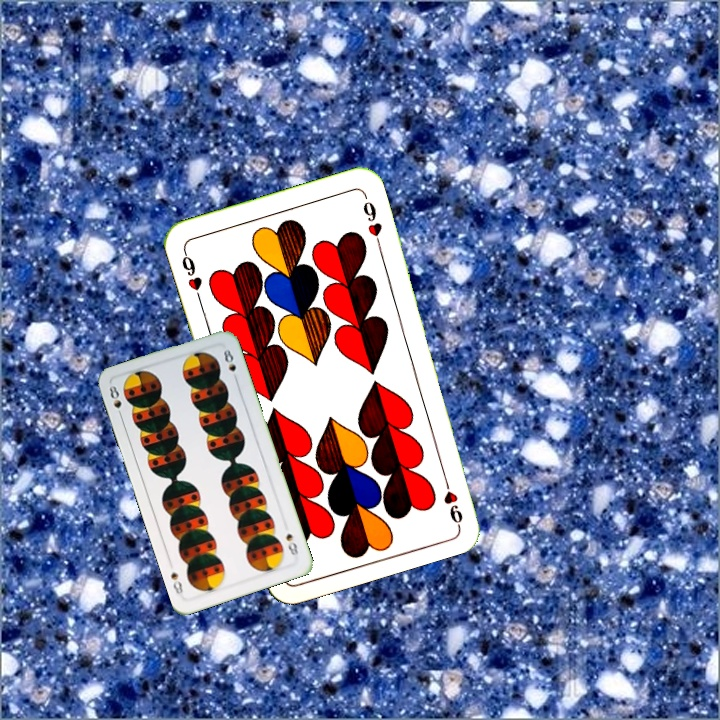H9: (177, 245, 205, 303), (438, 469, 465, 527)
S8: (105, 381, 125, 421), (282, 529, 301, 558)
